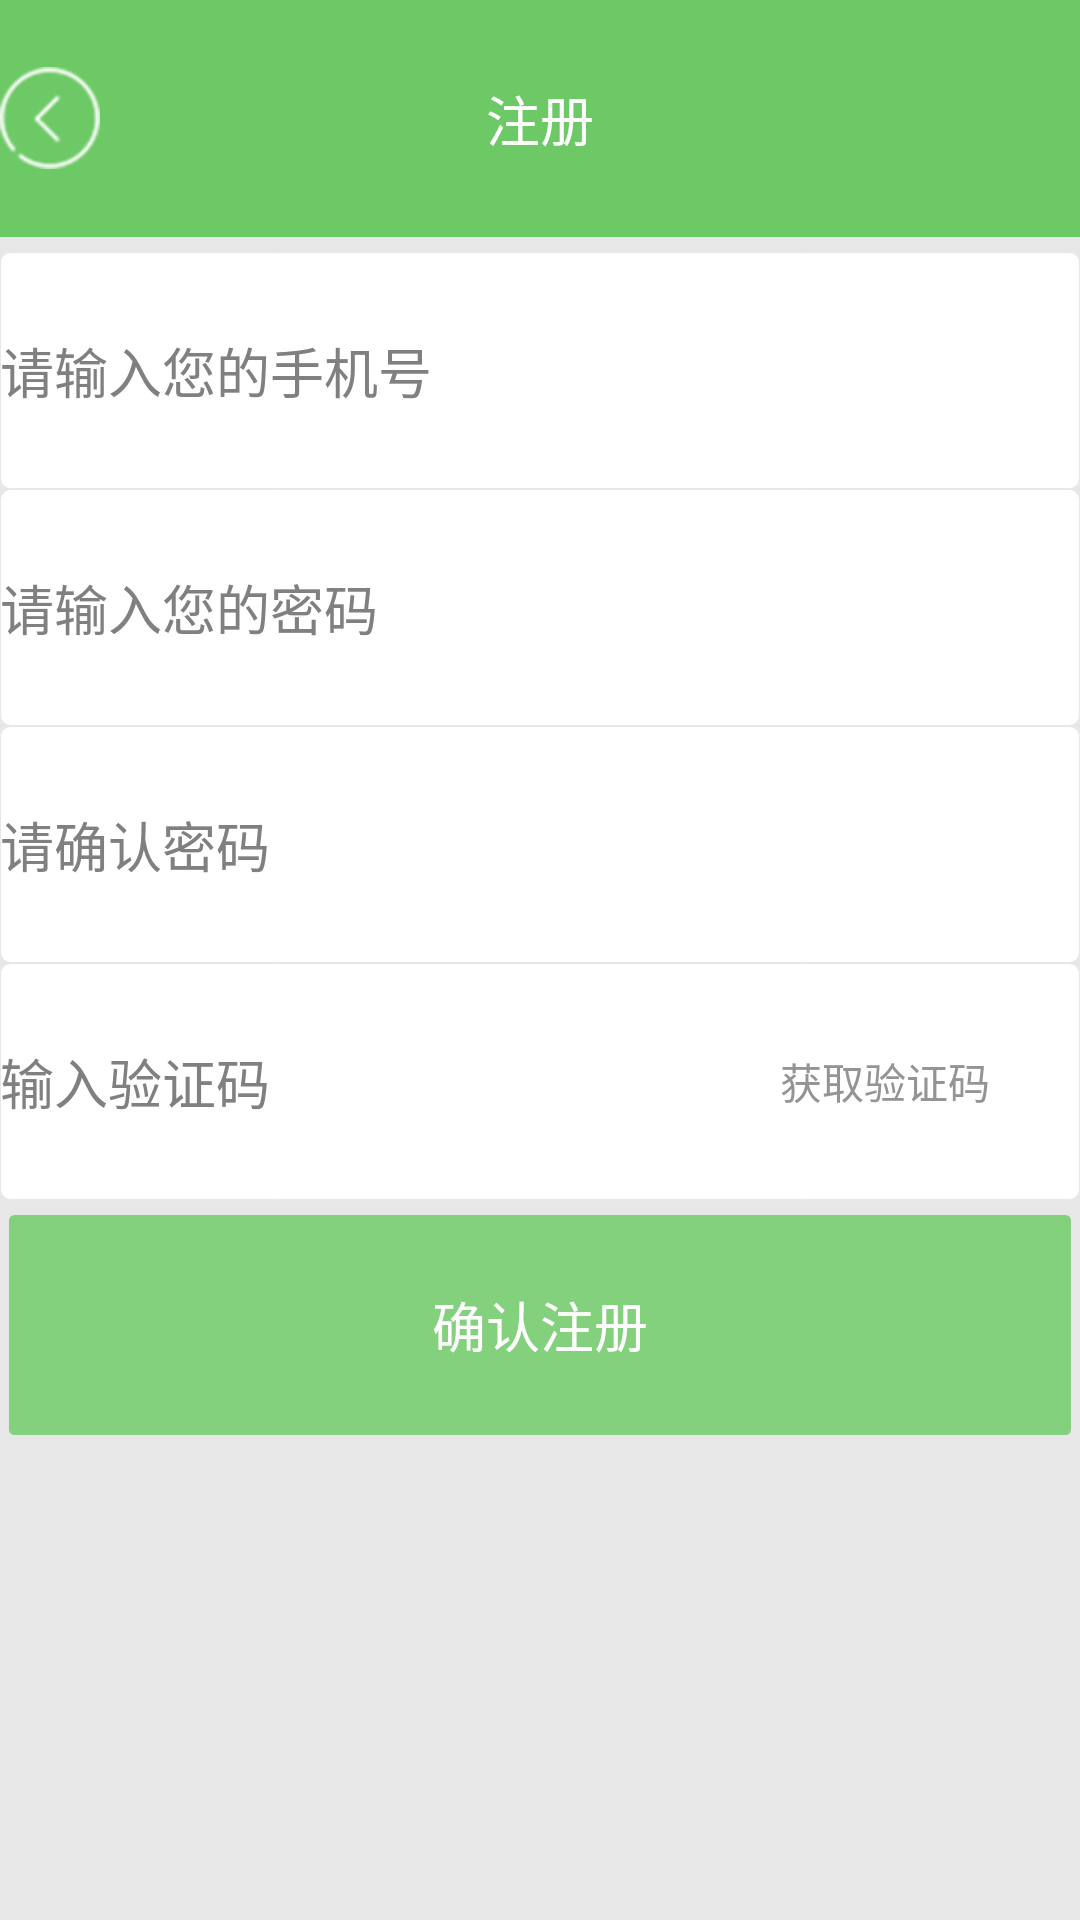

Icons on this 1080w x 1920h Android screen, each with its box as (x1, y1, x2, y2):
back up: (0, 67, 100, 169)
